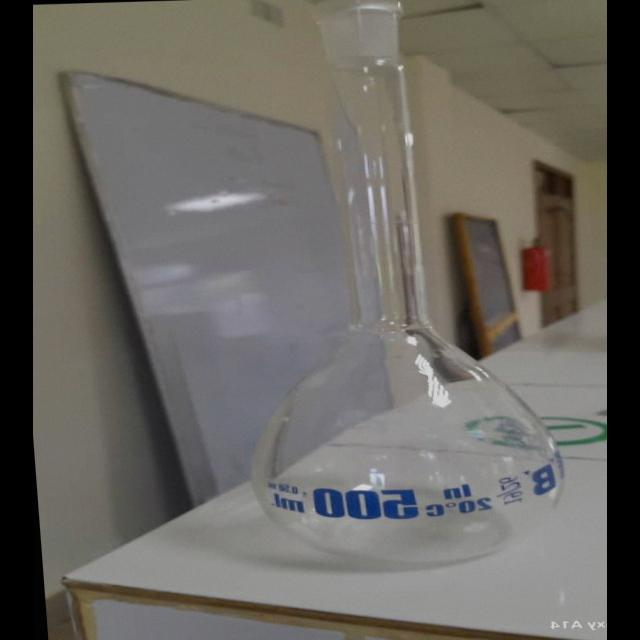Volumetric flask: (204, 0, 574, 575)
